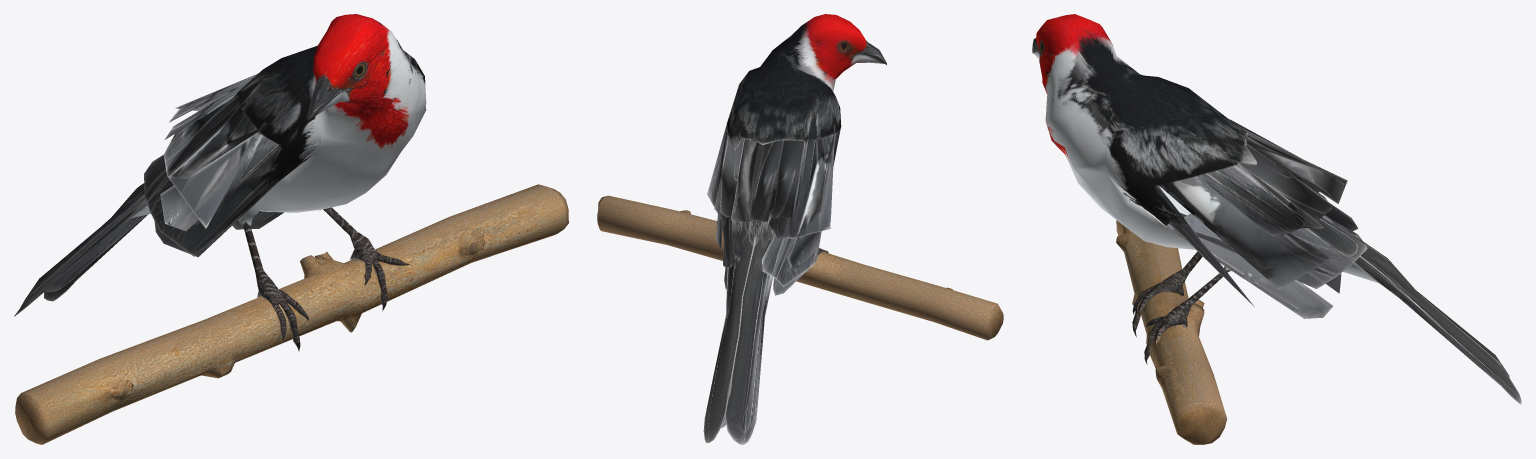
File: galos_de_campina_med.glb
3 views of the same model, side by side, from view 1: azimuth 30°, elevation 25°; view 2: azimuth 150°, elevation 25°; view 3: azimuth 270°, elevation 25° (orthographic). The views are drawn at different scales.
Size of the model in its own units: 0.9644 by 0.7246 by 0.7759.
Materials: 1 (1 with a texture image).
